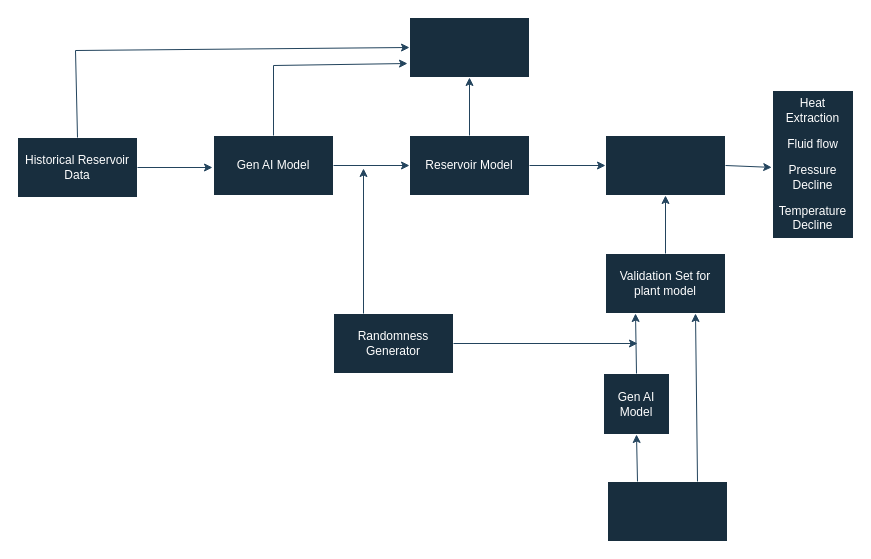
The diagram is 871 pixels wide and 559 high, and some of its shapes have lost their labels. Here are the shapes that lost their labels. From the top down, the centre of each, then its label:
At (469,47): "Validation Set for reservoir model".
At (665,165): "Geothermal Energy Plant Model".
At (667,511): "Historical Plant Data".
